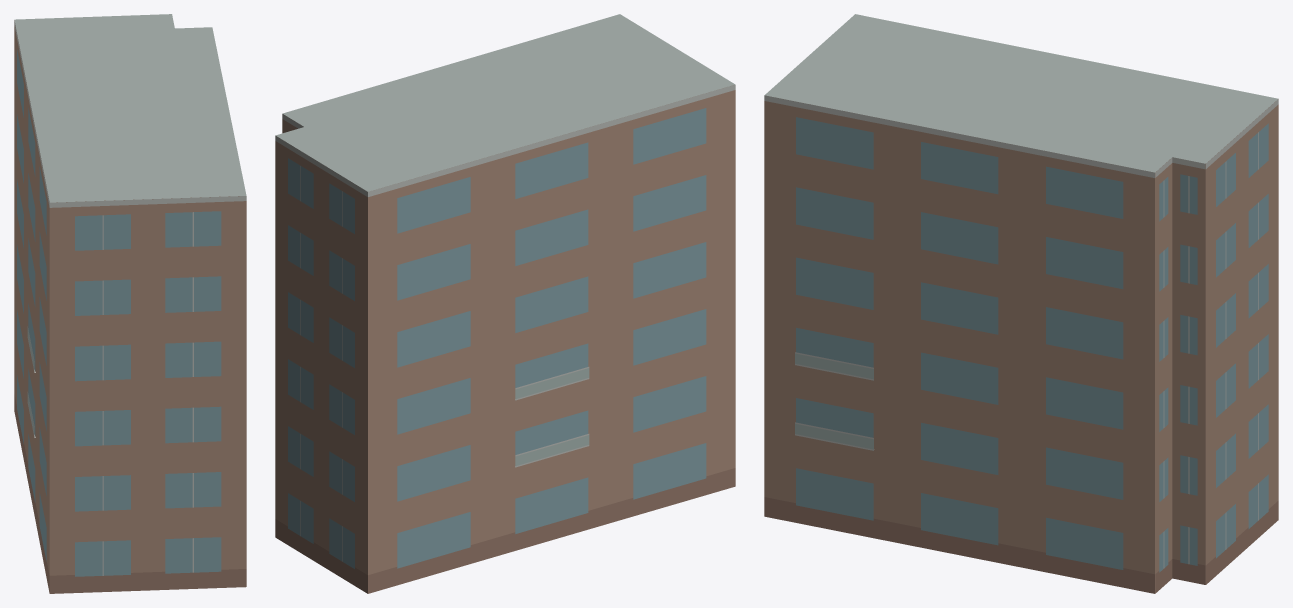
The model's file is survey-upis-32900071.glb.
3 renders of one model, left to right at view 1: azimuth 30°, elevation 25°; view 2: azimuth 150°, elevation 25°; view 3: azimuth 270°, elevation 25°, orthographic. The views are drawn at different scales.
Visible parts, largest first — view 1: survey-upis-32900071.tmp; view 2: survey-upis-32900071.tmp; view 3: survey-upis-32900071.tmp.
Part boxes in pixels (x1,y1,x2,y2): survey-upis-32900071.tmp: (14, 14, 246, 593); survey-upis-32900071.tmp: (275, 14, 735, 593); survey-upis-32900071.tmp: (764, 14, 1278, 593).
Size of the model in its own units: 14.79 by 18.3 by 20.25.
